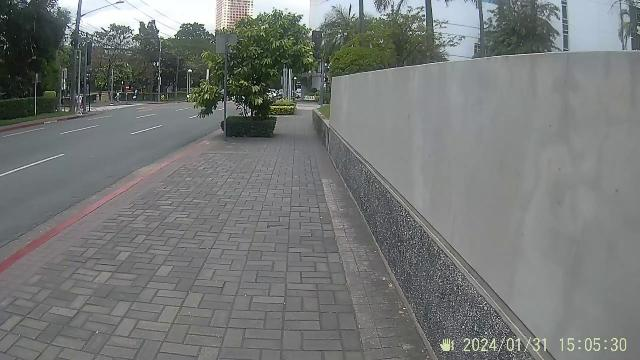street_sign: (211, 22, 241, 142)
utility_post: (72, 0, 92, 118)
